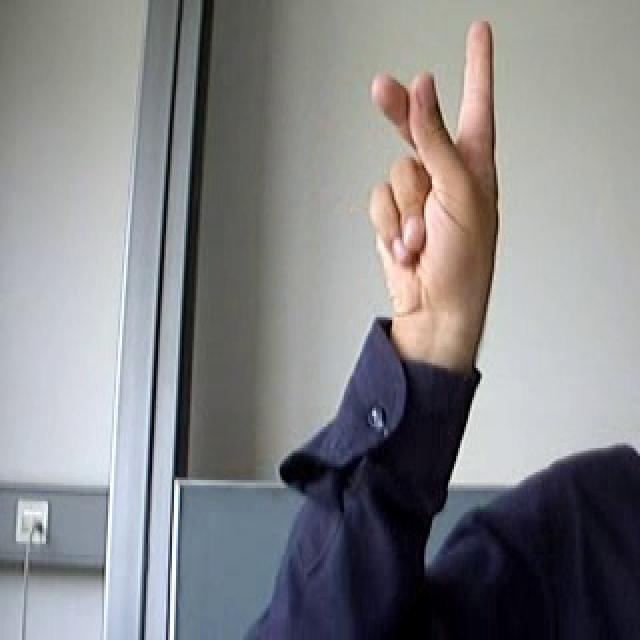K: (329, 0, 537, 359)
